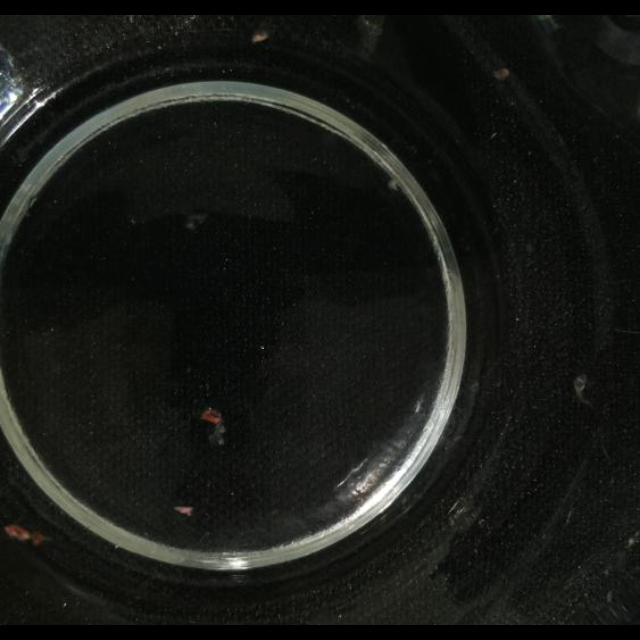Fragment: (0, 518, 46, 552), (200, 404, 232, 446)
microbeads: (174, 504, 196, 520), (492, 68, 510, 80), (252, 31, 268, 43)
